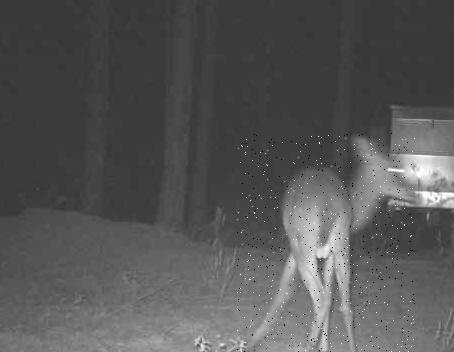Deer: (237, 133, 415, 352)
